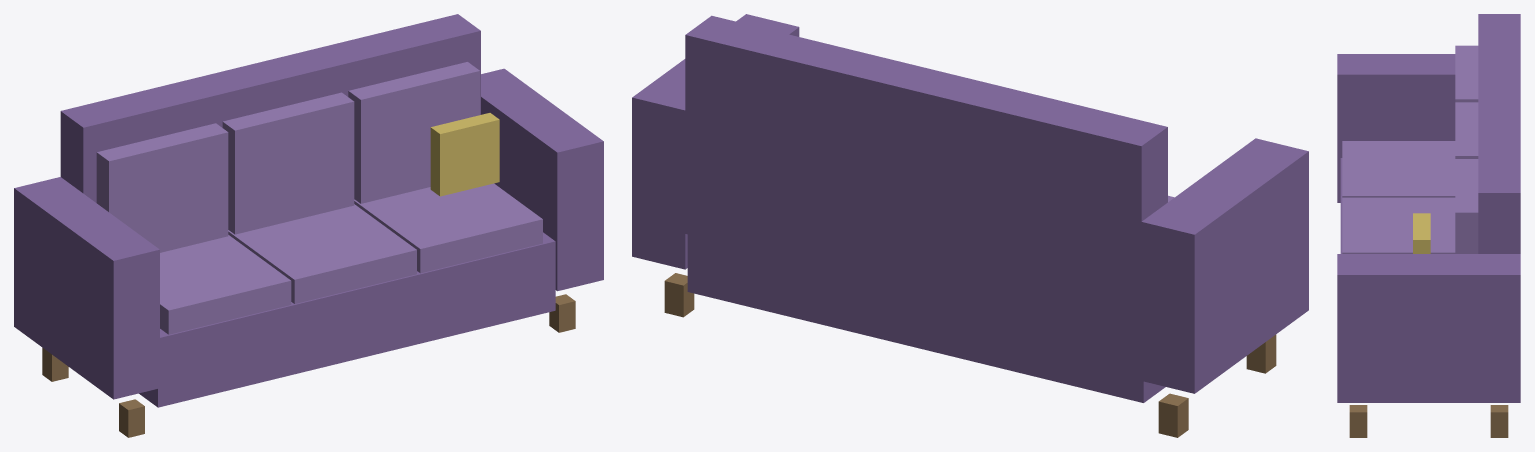
File: flying-couch.glb
3 renders of one model, left to right at view 1: azimuth 30°, elevation 25°; view 2: azimuth 150°, elevation 25°; view 3: azimuth 270°, elevation 25°, orthographic. The views are drawn at different scales.
Visible parts, largest first — view 1: flying-couch; view 2: flying-couch; view 3: flying-couch.
Boxes of the visible parts, x1,y1,x2,y2 form: flying-couch: [14, 14, 603, 437]; flying-couch: [632, 14, 1308, 437]; flying-couch: [1337, 14, 1520, 437].
Bounding box in the file's own units: 15 × 7.4 × 5.27.
